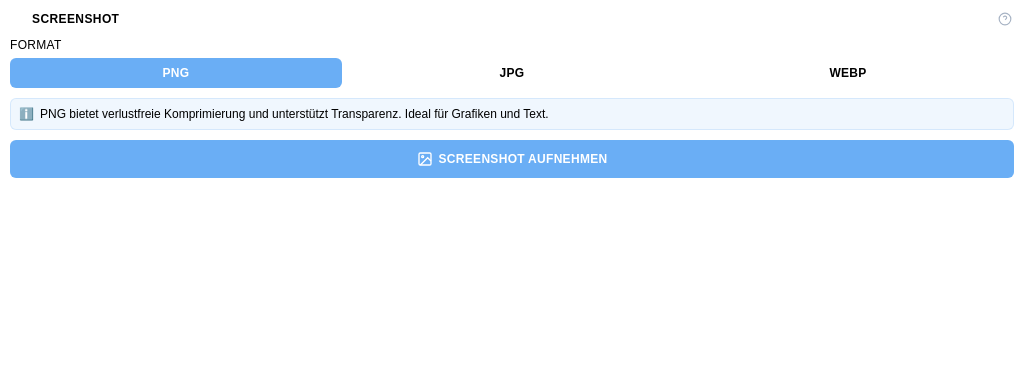
Test: ScreenshotPanel – Format, Vorschau und Vollbild › kleine Dateien in Byte
Click the button with class "btn-screenshot". click: (512, 159)
box: [10,140,1014,178]
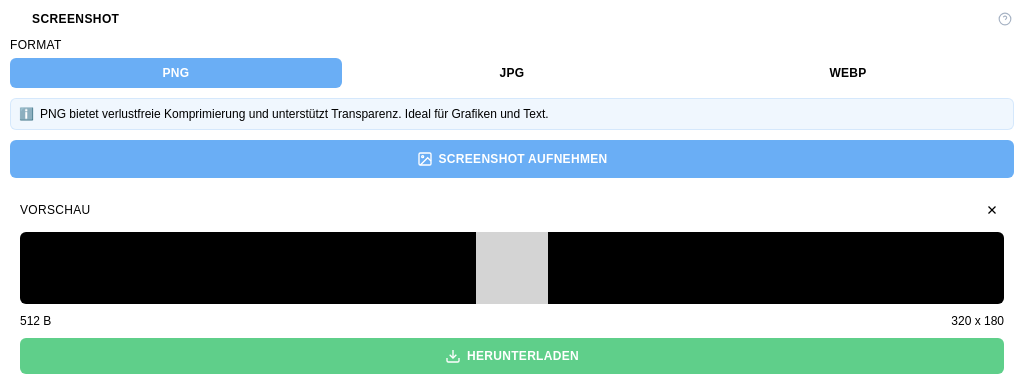
Expected: the text with class "file-size" reads "512 B", [20,314,51,328]
